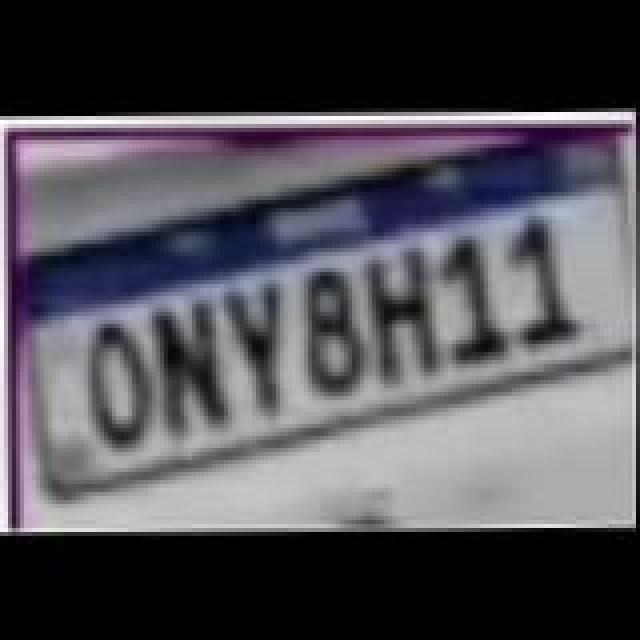1: (512, 218, 588, 350), (442, 236, 514, 364)
8: (304, 266, 372, 394)
H: (366, 244, 446, 380)
N: (156, 298, 232, 438)
O: (88, 318, 160, 450)
Y: (222, 280, 294, 416)
